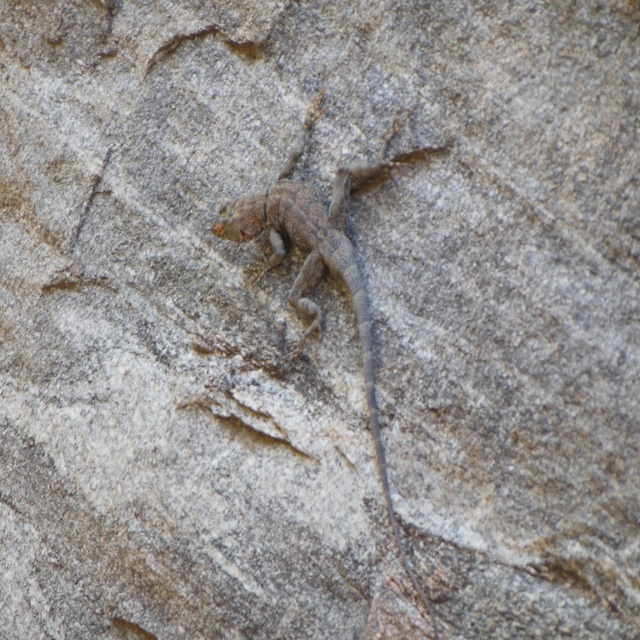Lizard: (230, 98, 443, 507)
